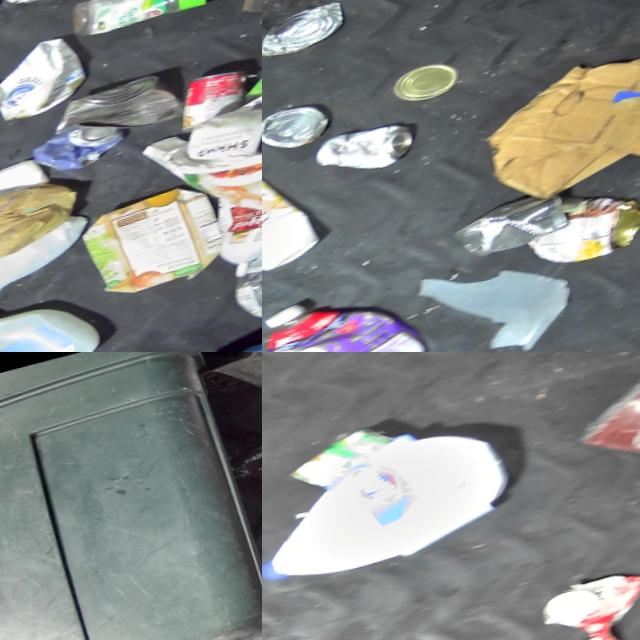can: (520, 182, 640, 280), (50, 69, 191, 152), (448, 189, 580, 268), (284, 419, 408, 498), (308, 116, 429, 190), (539, 567, 640, 640), (32, 117, 137, 182), (262, 0, 355, 68), (178, 67, 262, 136), (262, 98, 338, 161), (384, 58, 466, 112)
milk_jug: (262, 410, 526, 597), (0, 212, 106, 315), (0, 31, 98, 126), (0, 283, 116, 352)
non_white_jug: (79, 181, 240, 307), (262, 272, 444, 352)
